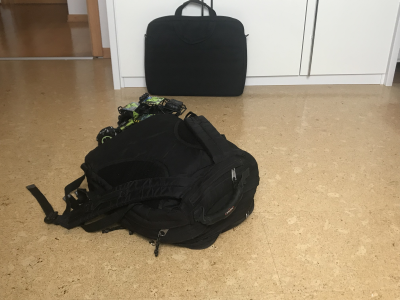remote control car: (94, 91, 202, 149)
